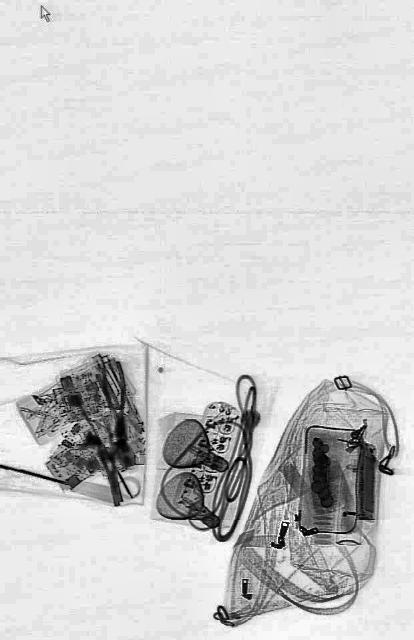Pliers: (97, 358, 135, 452)
